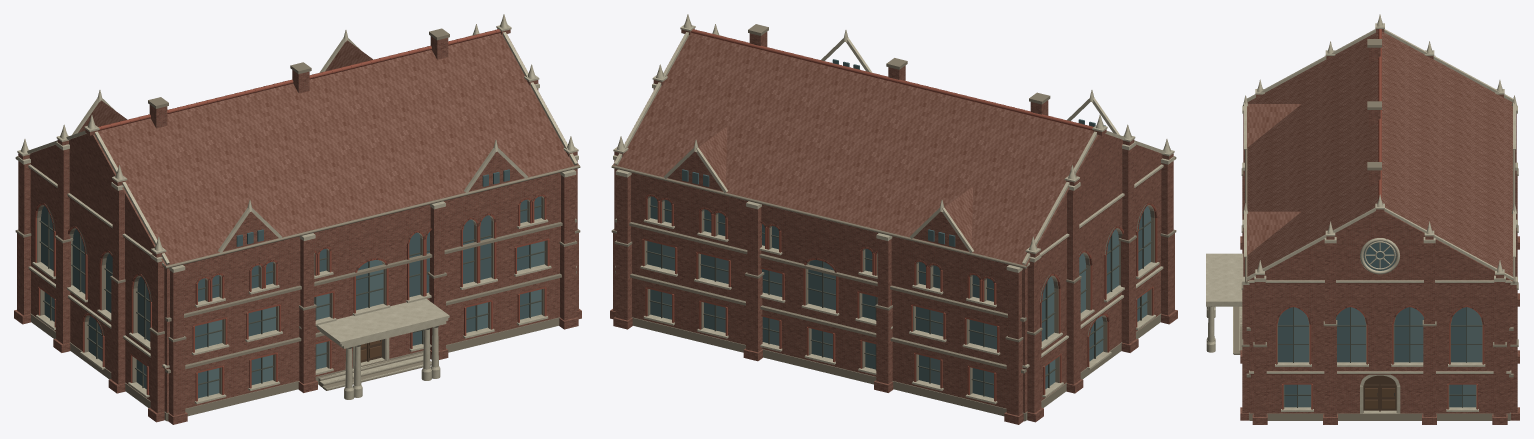
File: yates.glb
The picture shows the model from 3 angles, left to right: view 1: azimuth 30°, elevation 25°; view 2: azimuth 150°, elevation 25°; view 3: azimuth 270°, elevation 25°; orthographic projection. The views are drawn at different scales.
Parts seen in each view (by area): view 1: Yates exterior; view 2: Yates exterior; view 3: Yates exterior.
Part boxes in pixels (box(x1,y1,x2,y2)): Yates exterior: box(14, 14, 581, 424); Yates exterior: box(610, 14, 1177, 424); Yates exterior: box(1206, 14, 1519, 424).
Size of the model in its own units: 27.74 by 15.82 by 19.75.
Materials: 12 (3 with a texture image).
